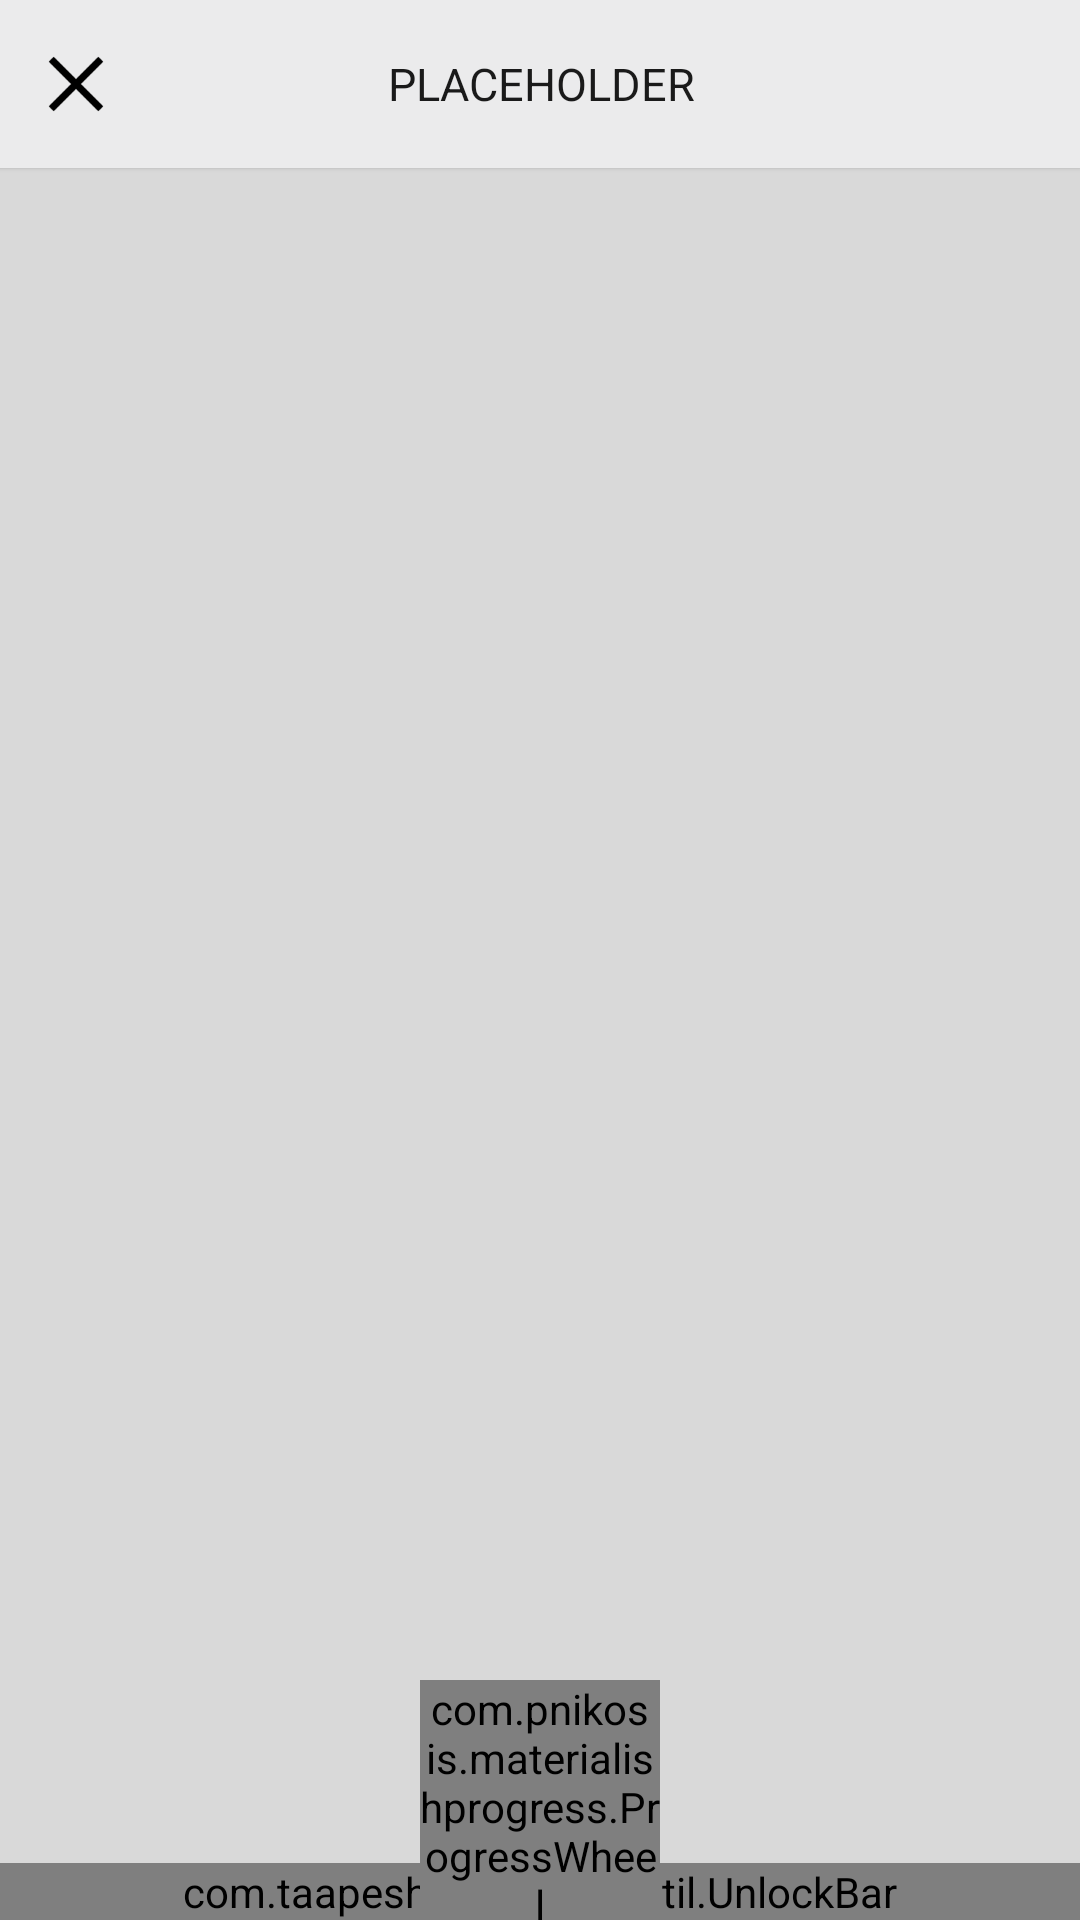

Where to tap for icons on this 1080px x 1920px app screen, as (x=x, y=y):
cancel toolbar: (x=76, y=84)
